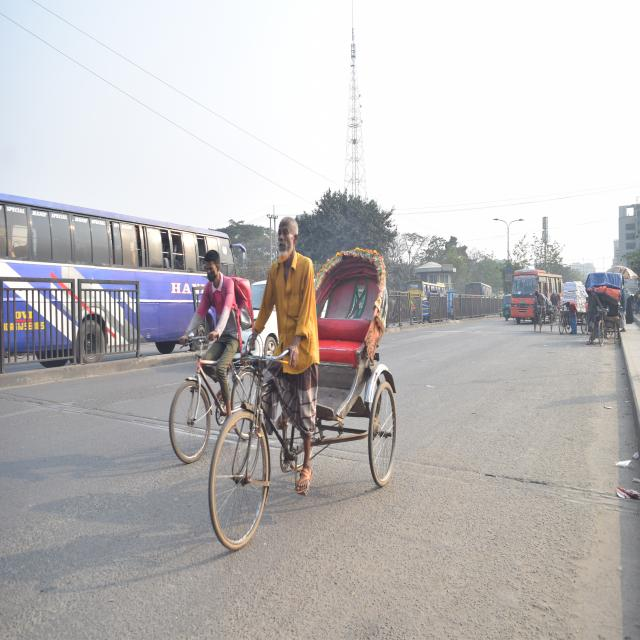bus: (0, 191, 237, 364), (512, 264, 564, 329)
car: (237, 274, 284, 363)
